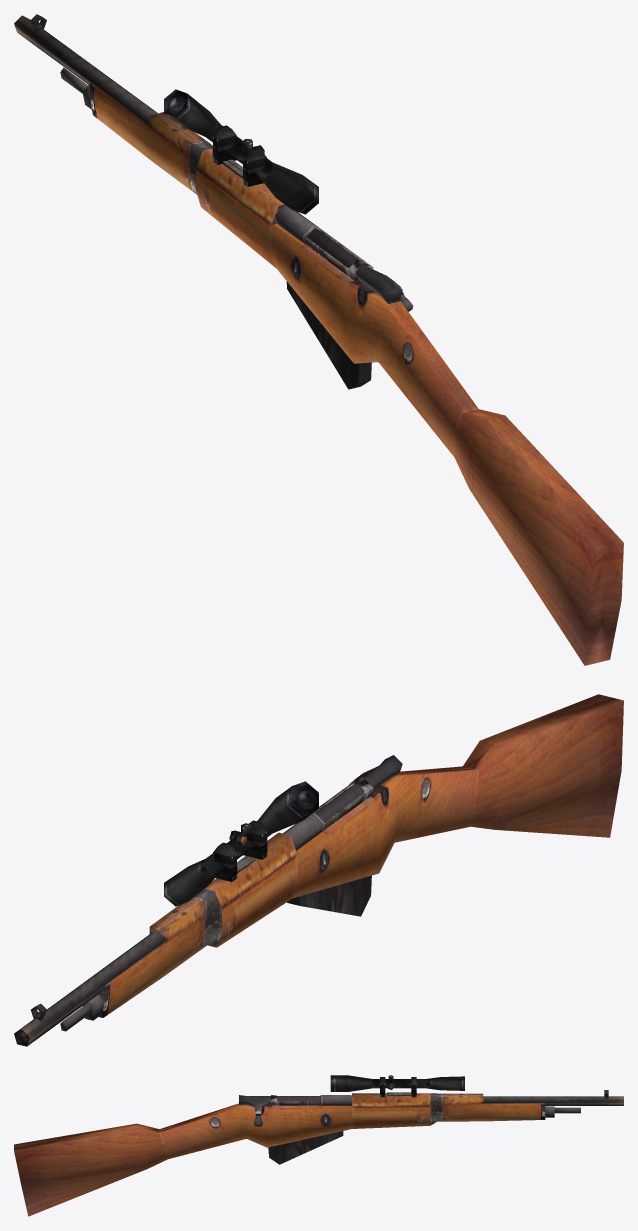
File: Rifle.glb
3 renders of one model, top to bottom at view 1: azimuth 30°, elevation 25°; view 2: azimuth 150°, elevation 25°; view 3: azimuth 270°, elevation 25°, orthographic. The views are drawn at different scales.
Parts seen in each view (by area): view 1: GunBase, Scope, Barrel, Mag, Bolt, Chamber; view 2: GunBase, Scope, Barrel, Mag, Chamber, Bolt, Thing; view 3: GunBase, Scope, Barrel, Mag, Bolt, Chamber, Thing.
Part boxes in pixels (left/top/right/bottom): GunBase: left=89, top=83, right=623, bottom=665; Scope: left=164, top=89, right=318, bottom=214; Barrel: left=14, top=14, right=197, bottom=157; Mag: left=286, top=281, right=371, bottom=389; Bolt: left=307, top=229, right=413, bottom=311; Chamber: left=275, top=206, right=373, bottom=281; GunBase: left=99, top=694, right=623, bottom=1017; Scope: left=164, top=781, right=318, bottom=906; Barrel: left=14, top=903, right=213, bottom=1046; Mag: left=287, top=875, right=371, bottom=916; Chamber: left=283, top=777, right=373, bottom=850; Bolt: left=315, top=755, right=402, bottom=821; Thing: left=60, top=994, right=104, bottom=1031; GunBase: left=14, top=1092, right=545, bottom=1216; Scope: left=330, top=1075, right=464, bottom=1097; Barrel: left=434, top=1090, right=623, bottom=1105; Mag: left=268, top=1131, right=343, bottom=1164; Bolt: left=239, top=1095, right=320, bottom=1126; Chamber: left=271, top=1095, right=351, bottom=1105; Thing: left=545, top=1106, right=580, bottom=1117.
Bounding box in the file's own units: 0.2497 × 1.24 × 4.96.
Materials: 1 (1 with a texture image).
